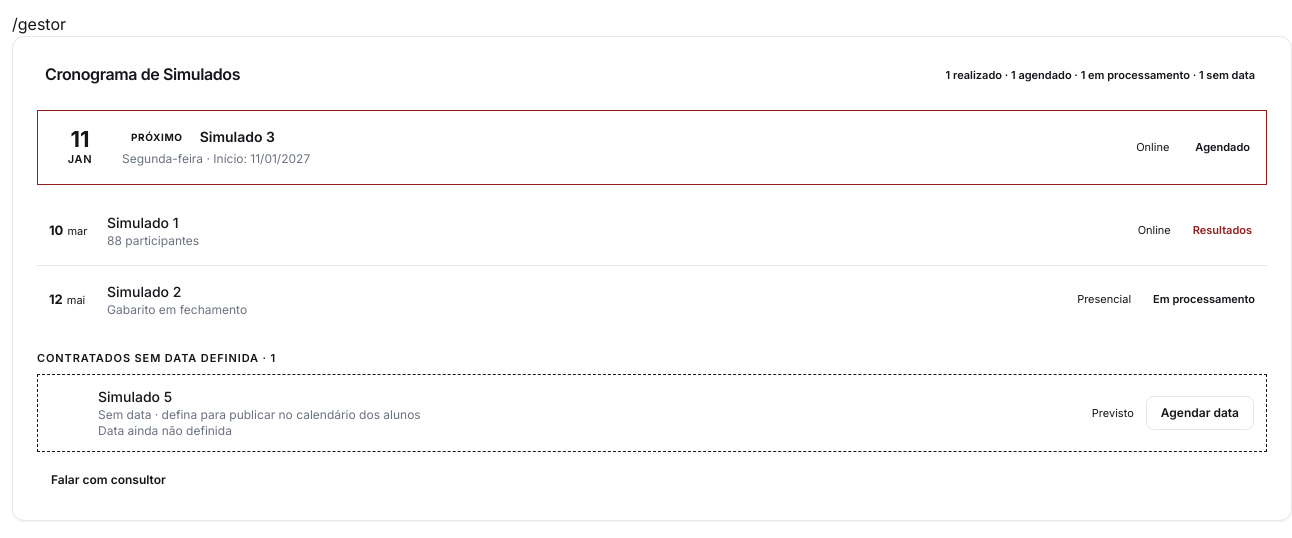
Test case: CronogramaSimulados — navegação para o Detalhamento (spec §2.1, §4.7) › clique em simulado realizado abre o Detalhamento já filtrado naquele simulado
Click the button with test id "cronograma-item-s1" at [116, 232], box [37, 200, 1267, 260]
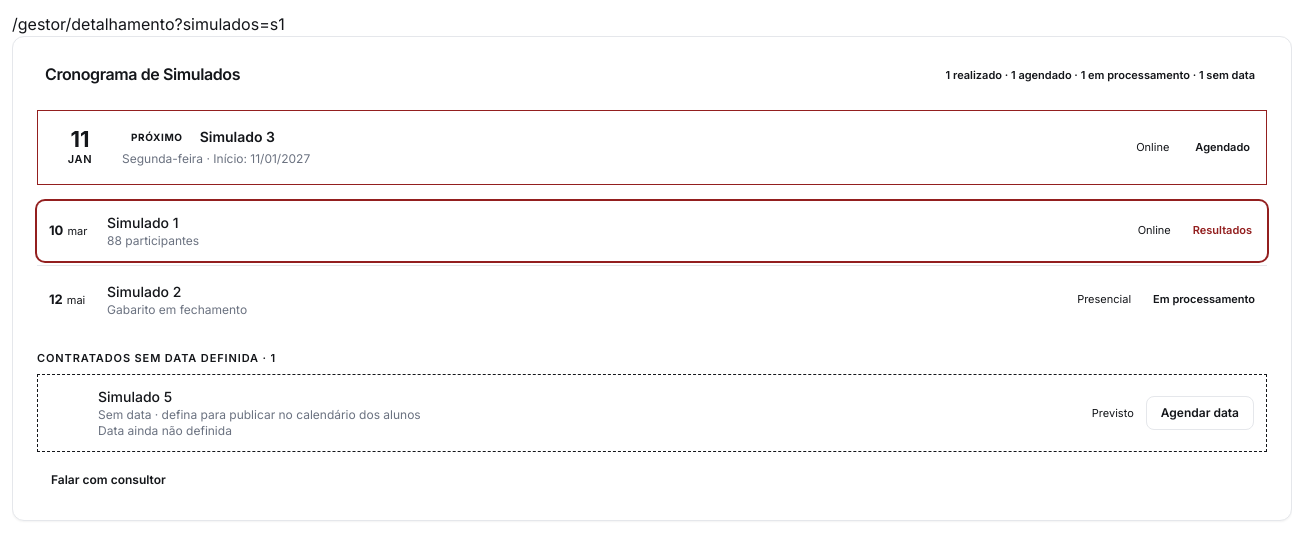
Check: the text with test id "rota" reads "/gestor/detalhamento?simulados=s1", box [12, 14, 285, 34]
